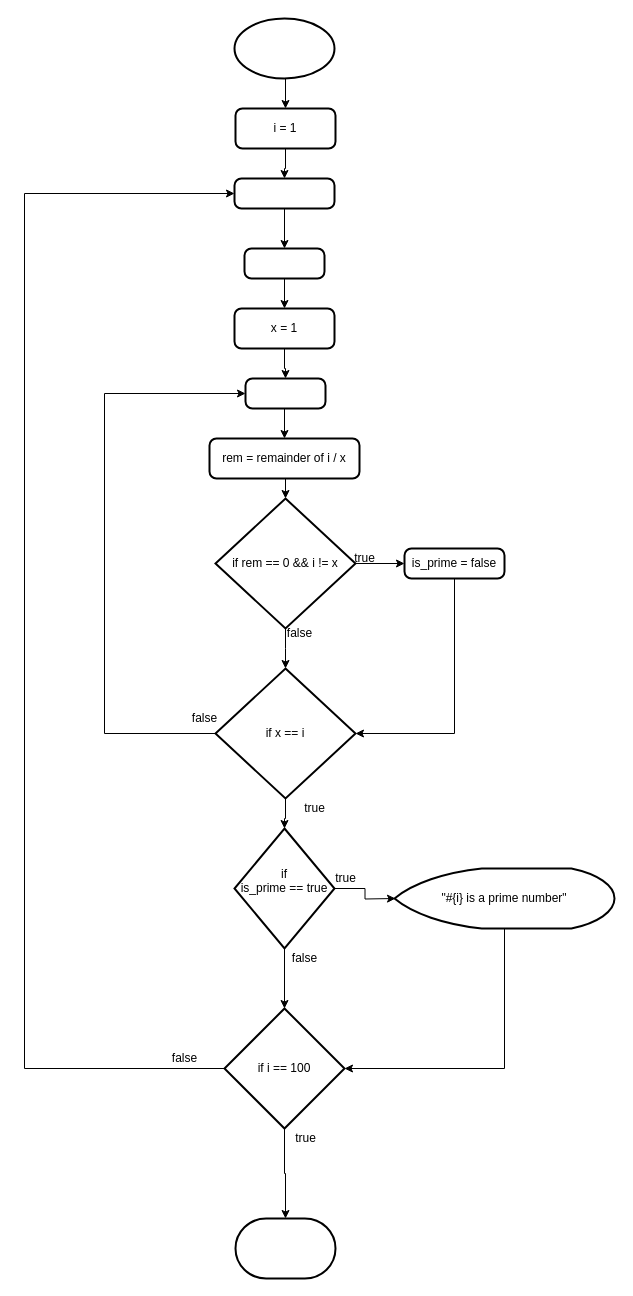
The diagram is 633 pixels wide and 1296 high, and some of its shapes have lost their labels. The shapes that lost their labels are listed below. From the top down, each one's centre as x and y in pixels, then its label:
At point (284, 48): "start find primes".
At point (284, 193): "is_prime = ture".
At point (284, 263): "i += 1".
At point (285, 393): "x += 1".
At point (285, 1248): "end".
